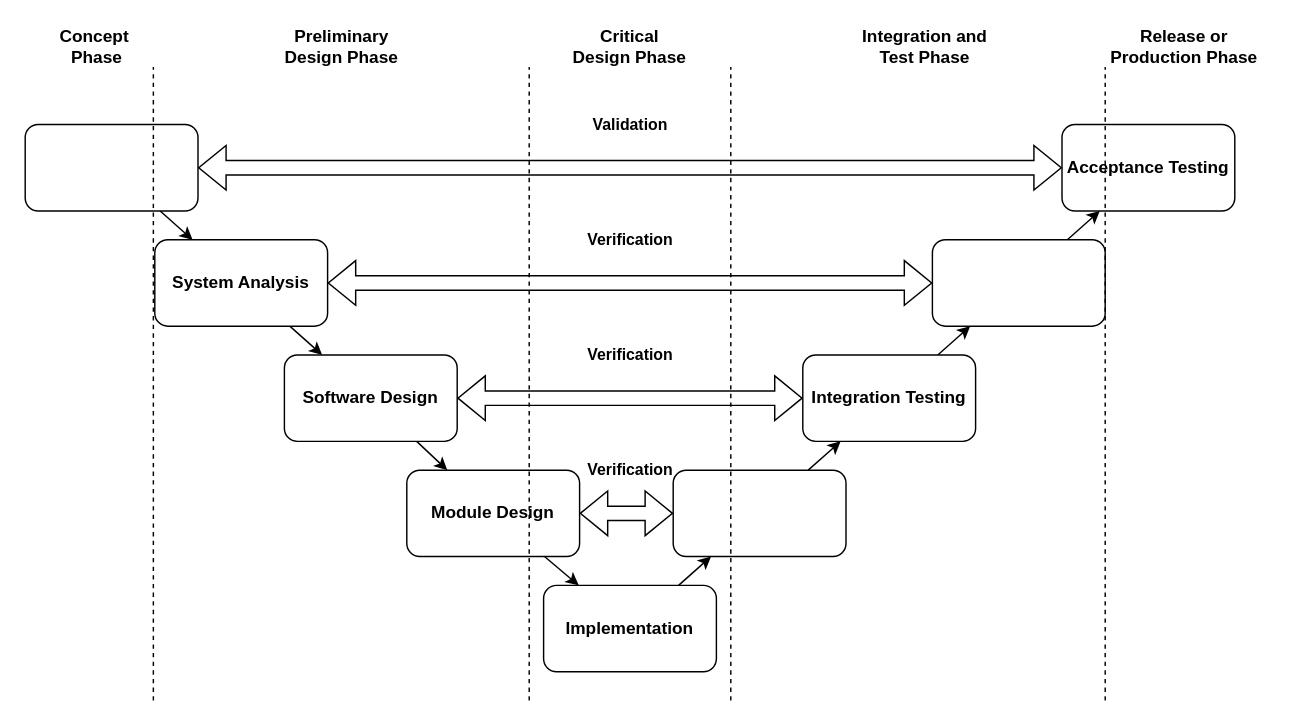
Some shapes in this 1289 by 727 pixel diagram are drawn without their labels. Here are the shapes that lost their labels. From the top down, the centre of each, then its label:
At [111,167]: "Requirements".
At [1018,282]: "System Testing".
At [759,513]: "Unit Testing".
